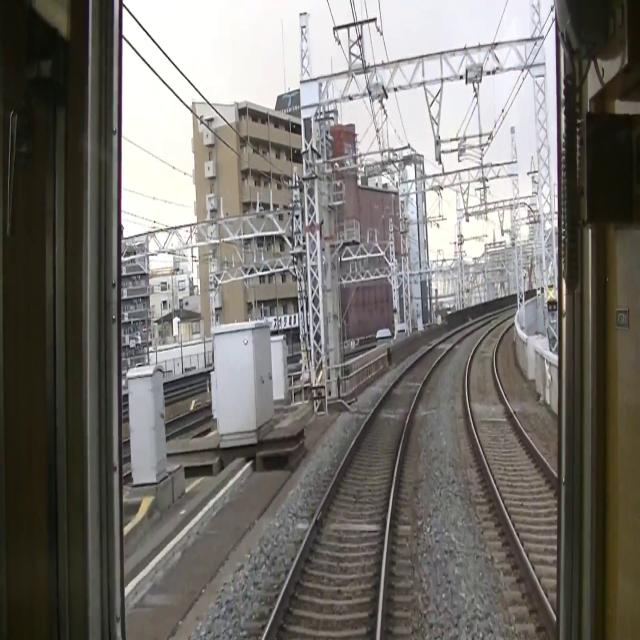rail-track: (265, 321, 482, 639), (468, 315, 528, 552), (122, 407, 210, 452)
